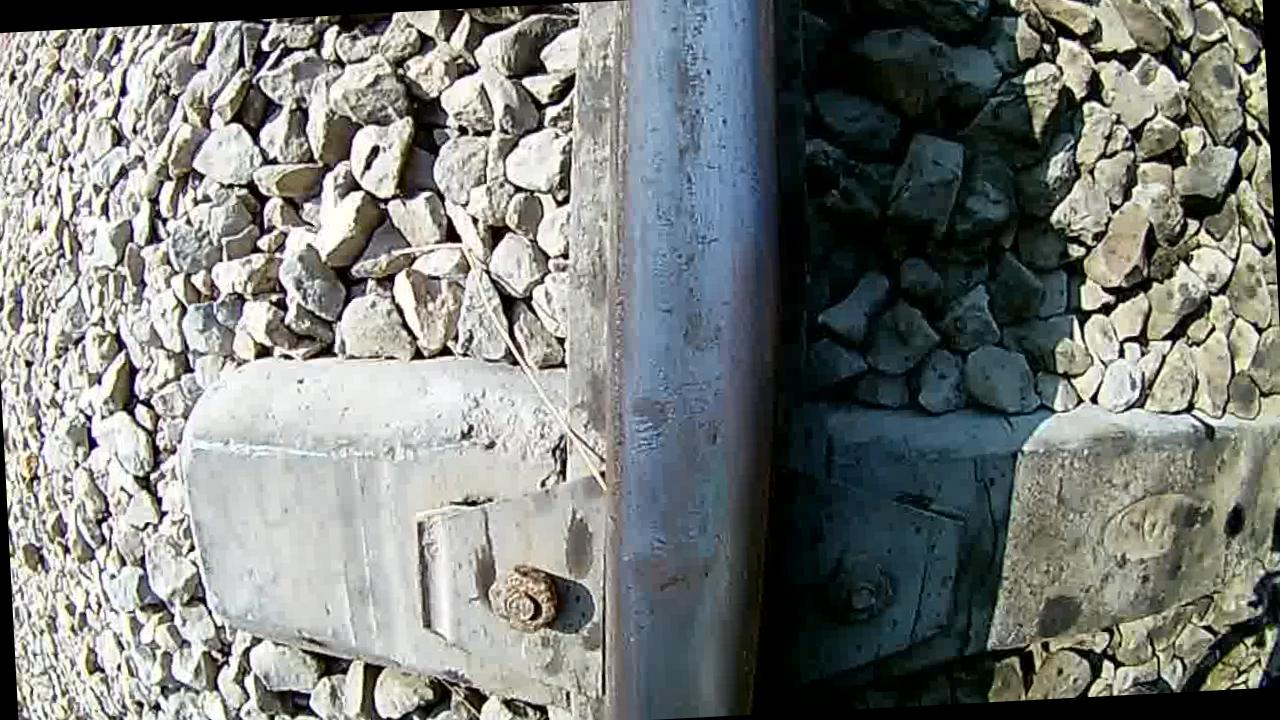crack: (580, 0, 806, 720)
